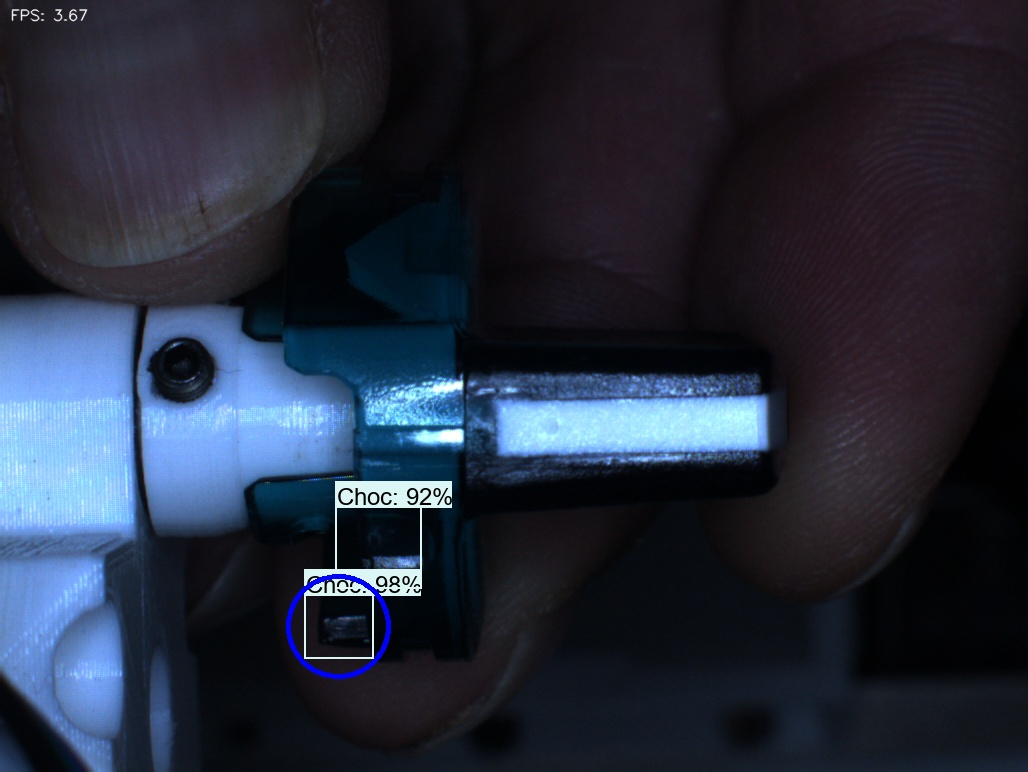DentOk: (313, 194, 395, 312)
